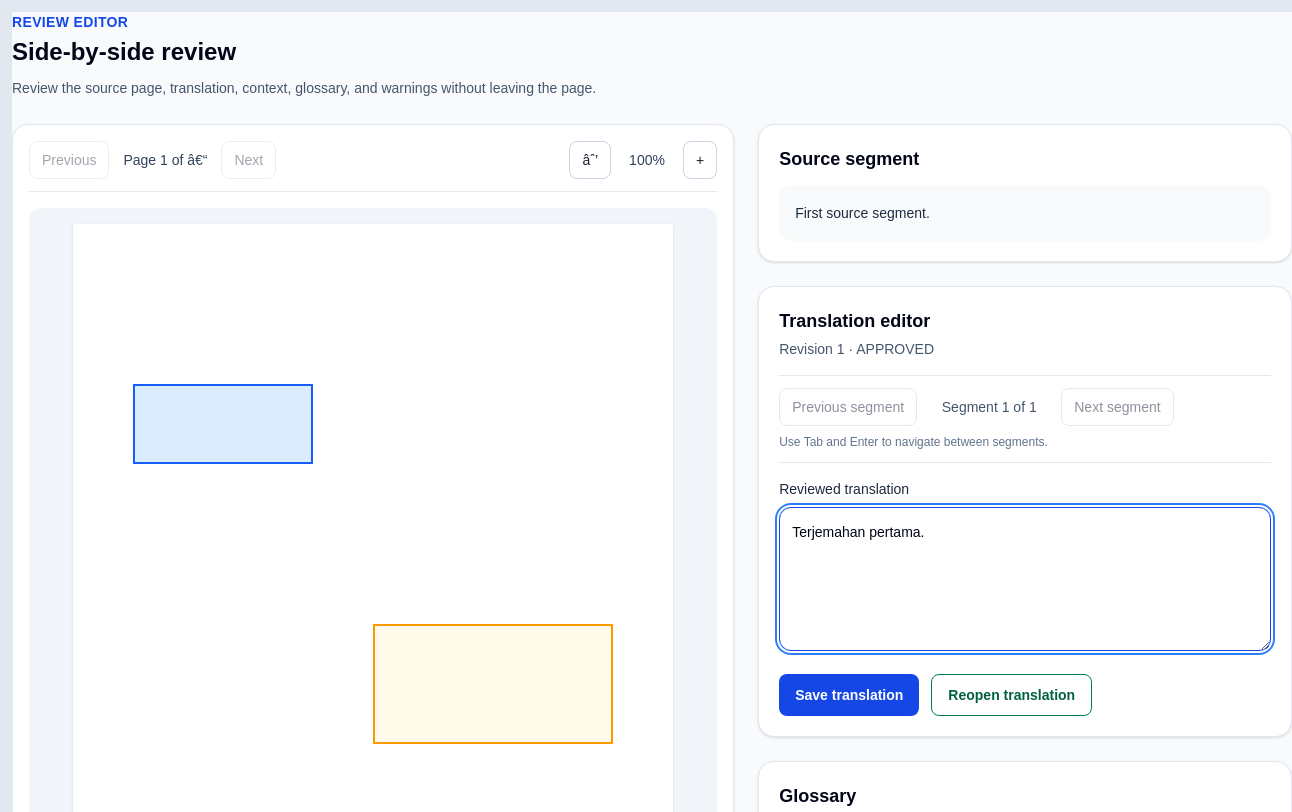
ReviewEditor › reopens an approved translation for revision
Expected: the text box labelled "Reviewed translation" is shown, [779,507,1271,651]
Click the button "Reopen translation": [1012, 695] box [931,674,1092,716]
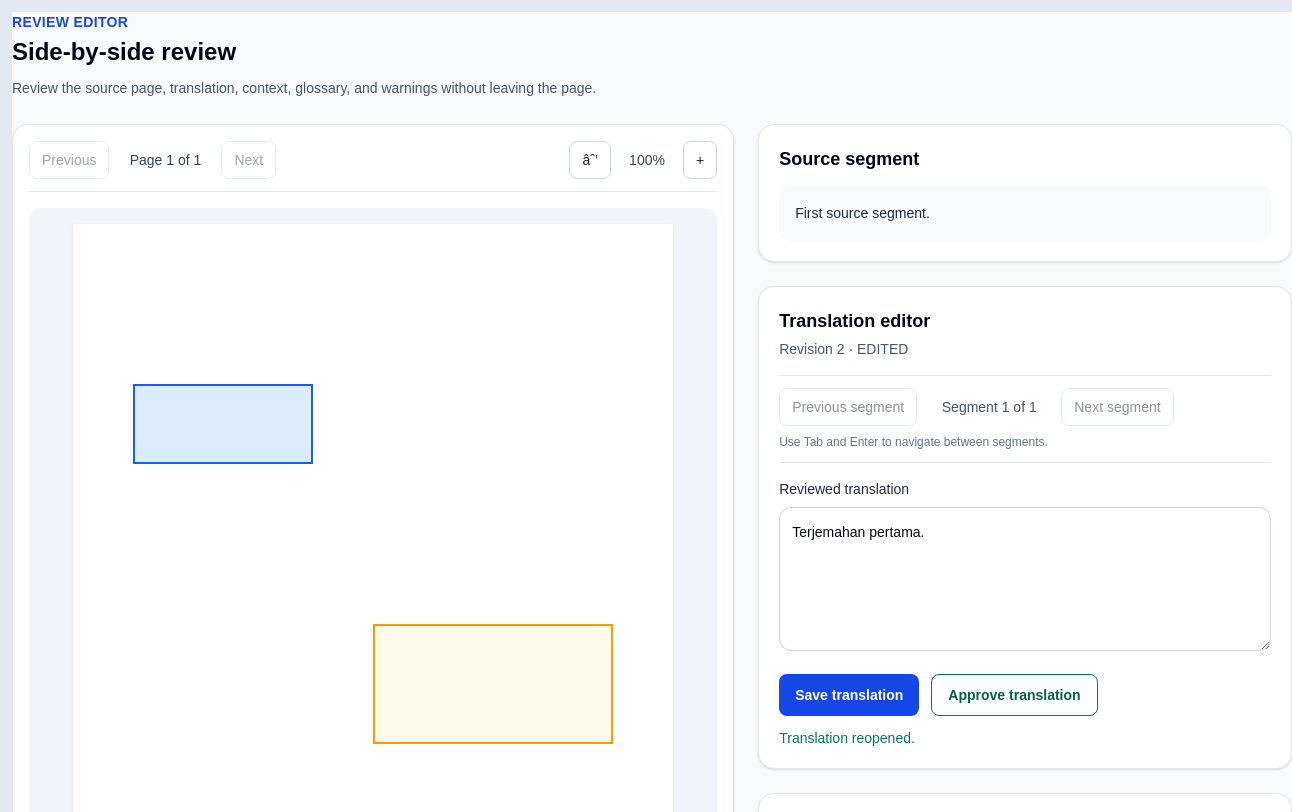
Expected: the text "Translation reopened." is shown, [779,730,915,746]
